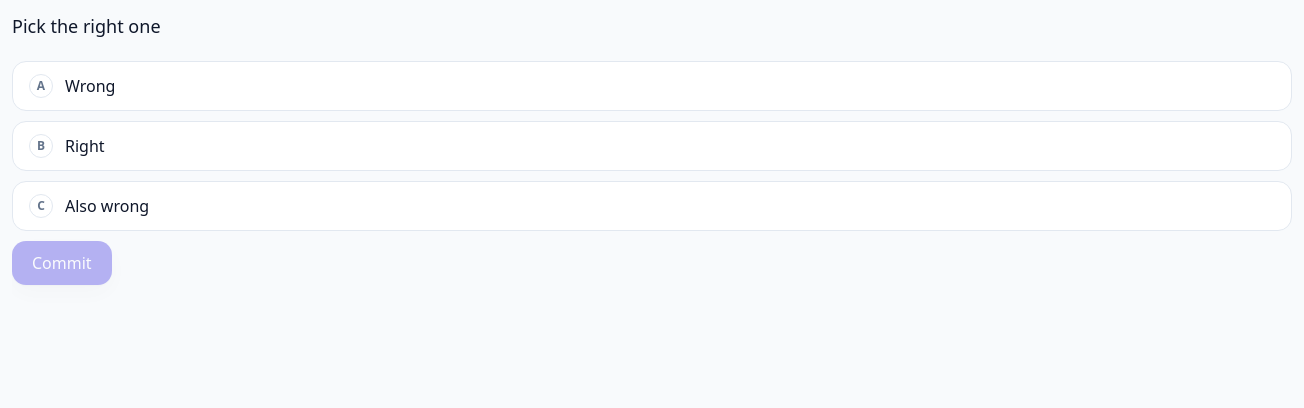
Test: ActivityView — MCQ › marks a wrong choice incorrect
The width and height of the screenshot is (1304, 408).
Click the button "A Wrong": click(90, 86) [12,61,1292,111]
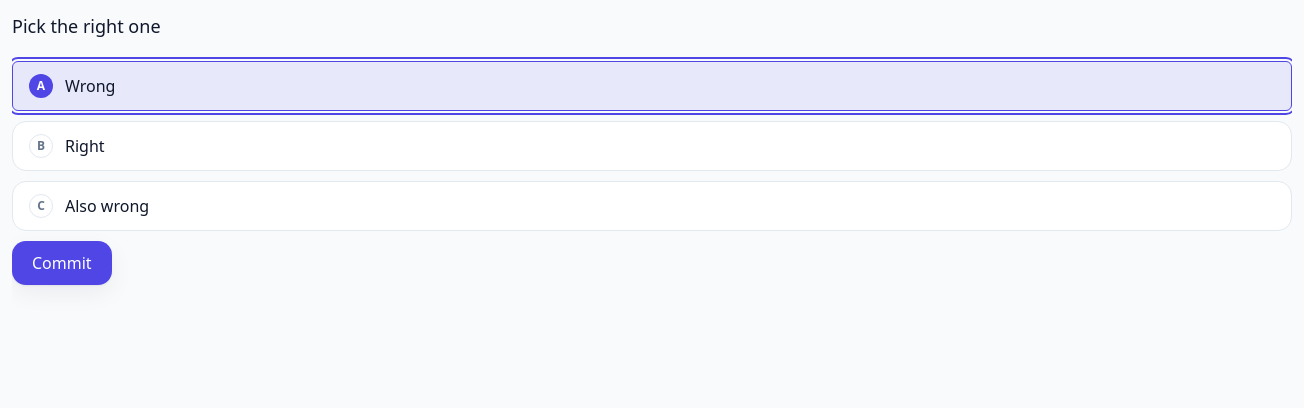
Click the button "Commit": click(62, 263) [12,241,112,285]
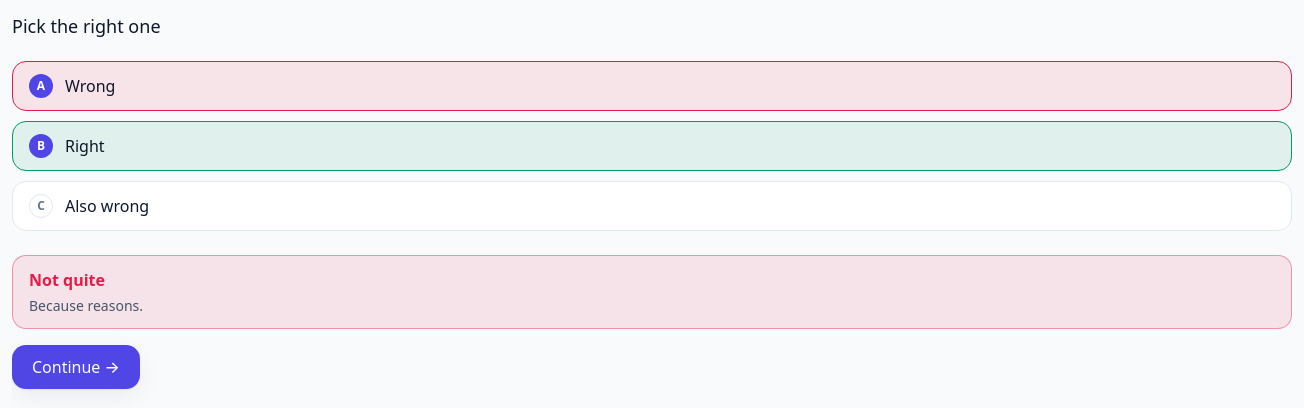
Expected: the text "Not quite" is shown, [29,269,105,291]
